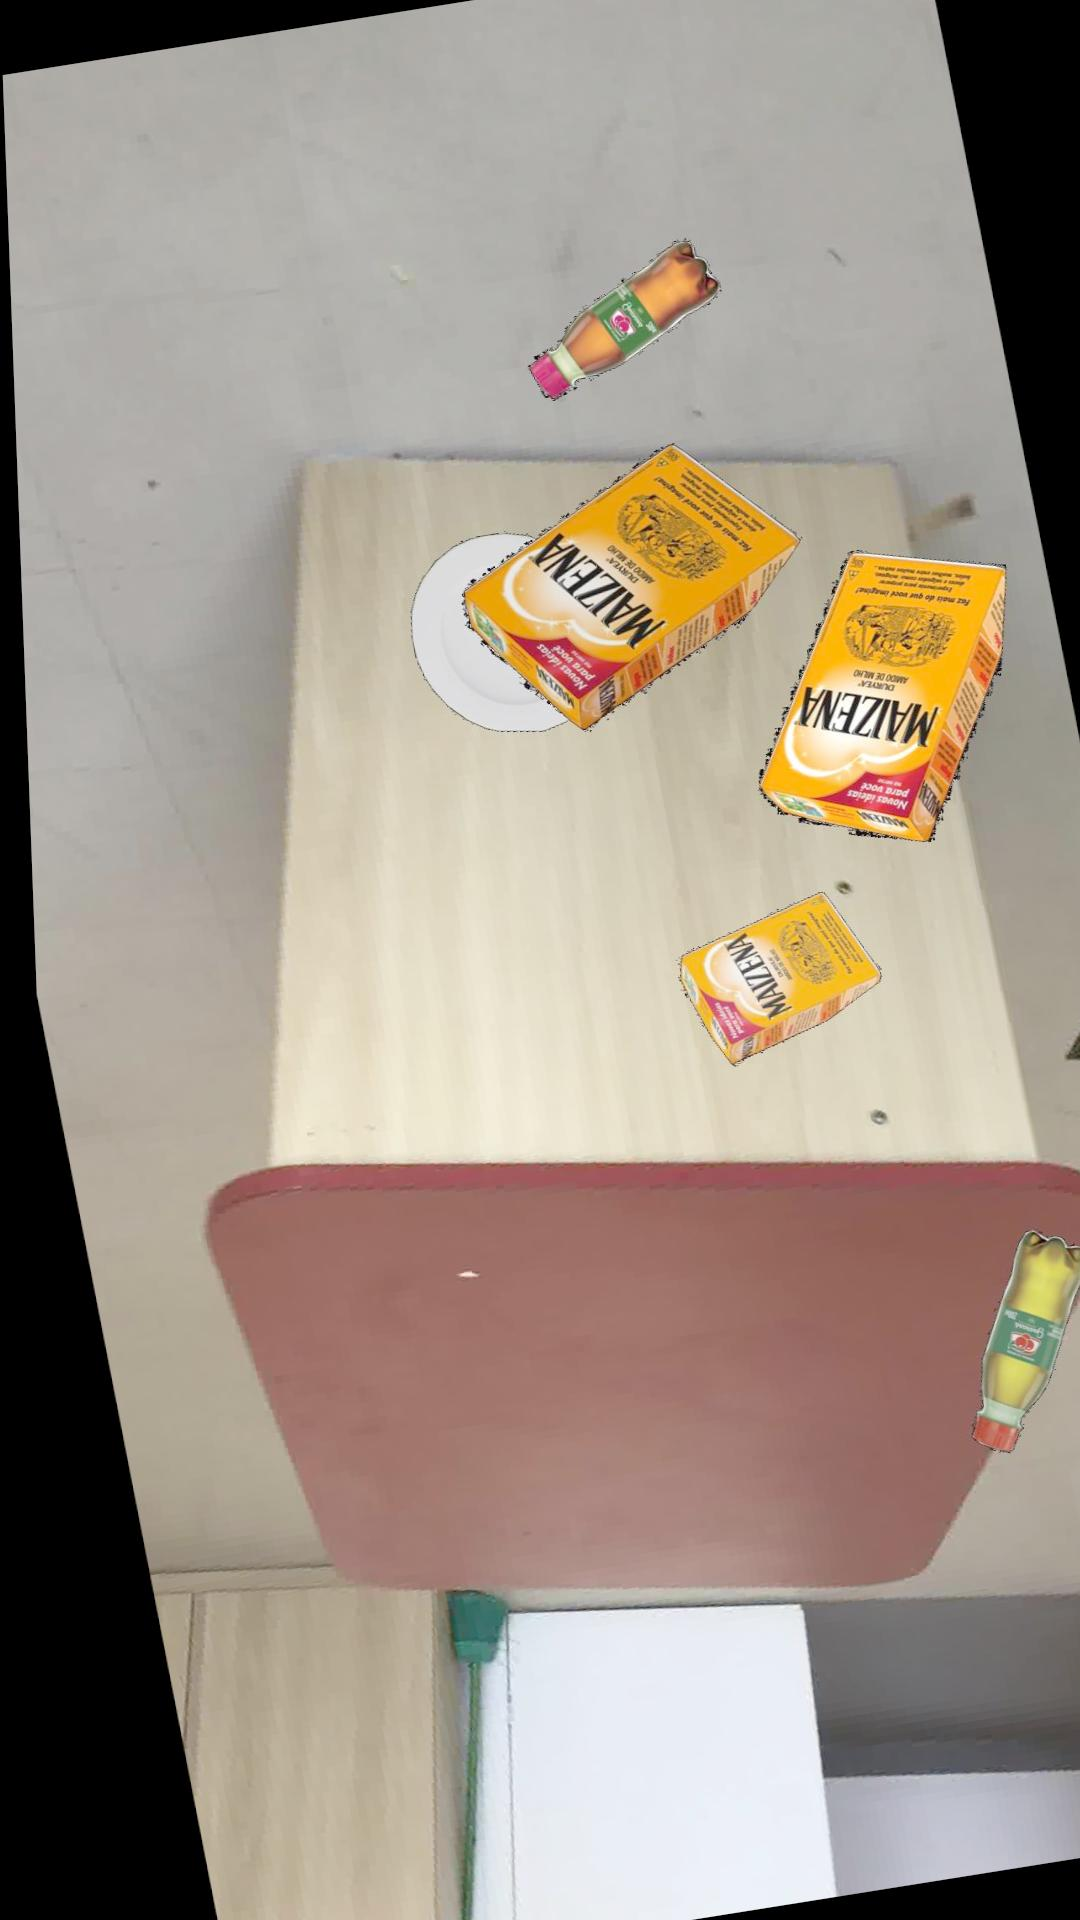guarana: (522, 241, 716, 401), (957, 1230, 1076, 1455)
plate: (404, 533, 560, 732)
